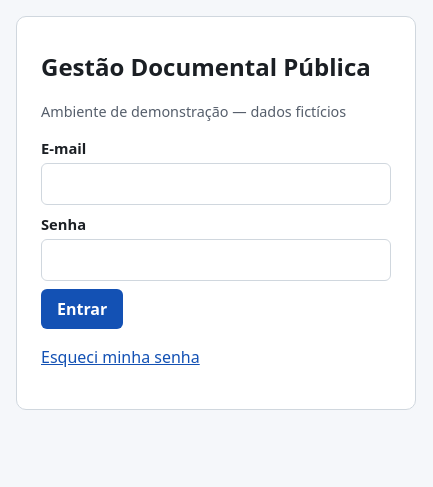
it: valida campos vazios sem chamar a API
The width and height of the screenshot is (433, 487).
Step 1. Click the button "Entrar" → (82, 309), box [41, 289, 123, 329]
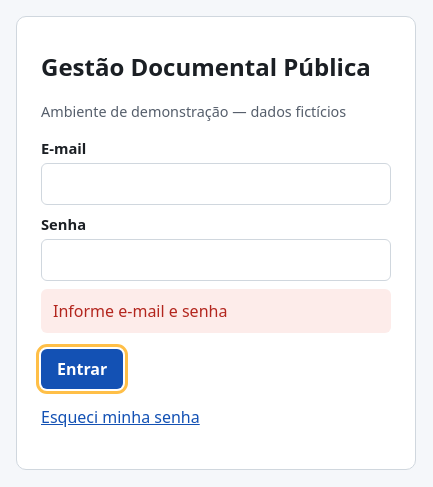
Expected: the message reads "Informe e-mail e senha", [53, 300, 227, 322]
